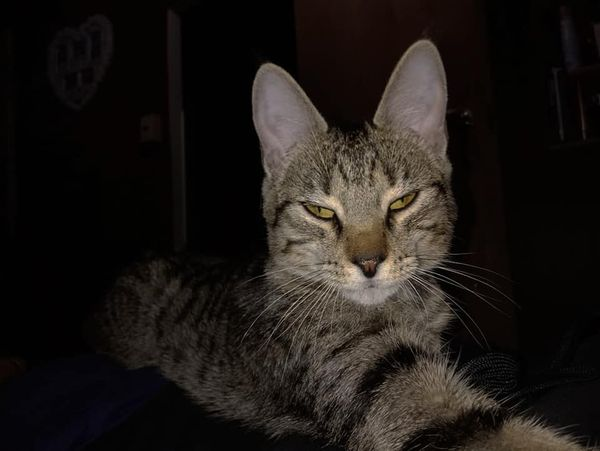cat: (80, 40, 585, 447)
